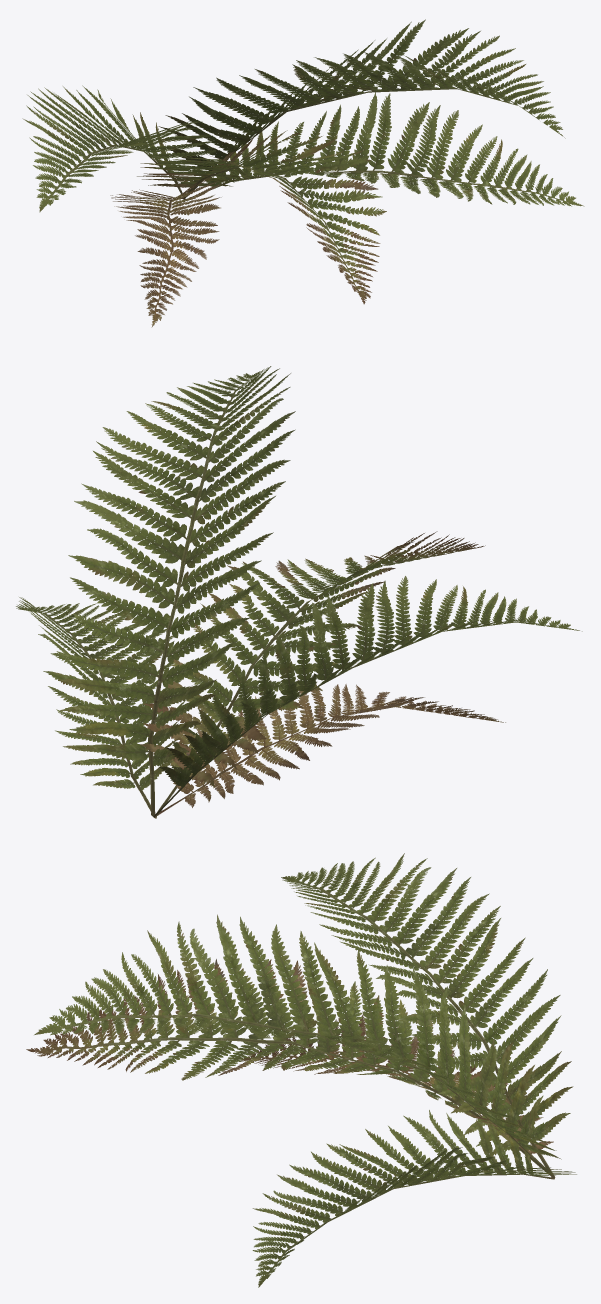
The model's file is Fern05lod0.dae.
The picture shows the model from 3 angles, top to bottom: view 1: azimuth 30°, elevation 25°; view 2: azimuth 150°, elevation 25°; view 3: azimuth 270°, elevation 25°; orthographic projection. The views are drawn at different scales.
Visible parts, largest first — view 1: SM_Fern_05_LOD; view 2: SM_Fern_05_LOD; view 3: SM_Fern_05_LOD.
Part boxes in pixels (box(x1,y1,x2,y2)): SM_Fern_05_LOD: box(22, 19, 584, 327); SM_Fern_05_LOD: box(16, 366, 582, 818); SM_Fern_05_LOD: box(26, 853, 576, 1287).
Bounding box in the file's own units: 1.2 × 0.5824 × 1.02.
